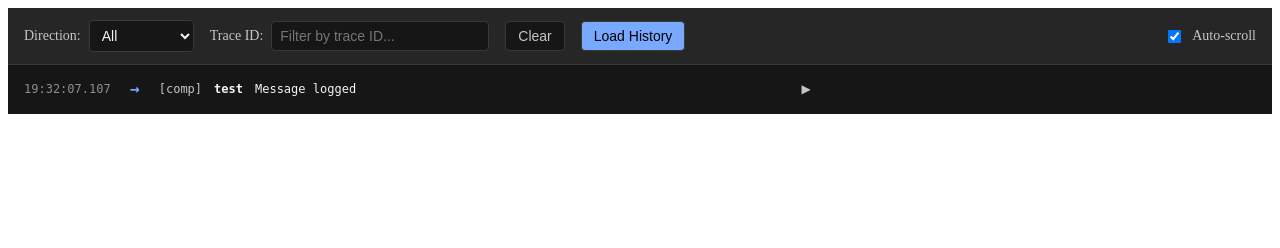
Test: MessagesTab › Filtering › shows empty state when filter matches no messages
Select "Received" in the dropdown with test id "direction-filter" at (141, 36), box [89,20,194,52]
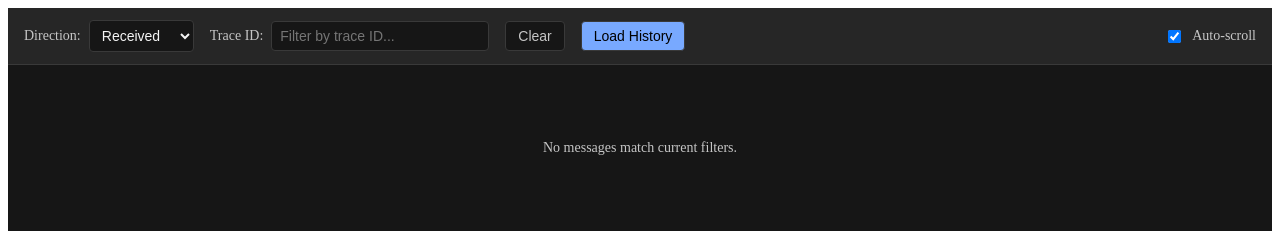
Expected: the text "No messages match current filters." is shown, [543,140,737,156]
